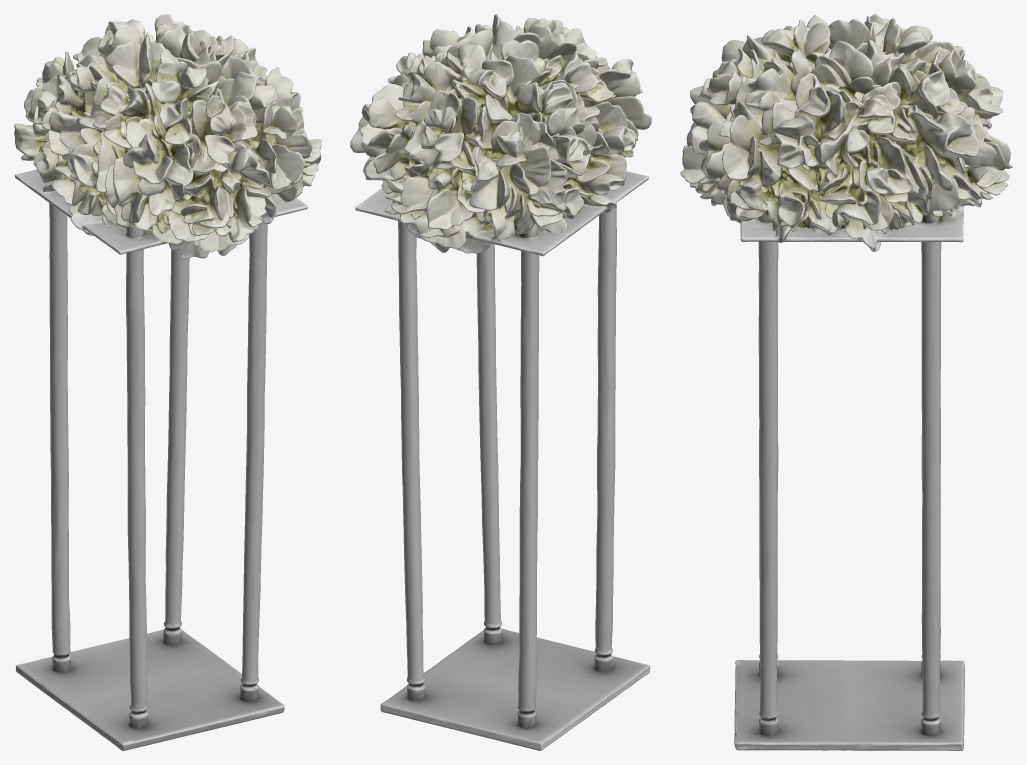
File: chuppah-decor-1.glb
3 views of the same model, side by side, from view 1: azimuth 30°, elevation 25°; view 2: azimuth 150°, elevation 25°; view 3: azimuth 270°, elevation 25° (orthographic). The views are drawn at different scales.
Parts seen in each view (by area): view 1: tripo_node_7aa1b8cf-158e-4043-b133-45f499207fef; view 2: tripo_node_7aa1b8cf-158e-4043-b133-45f499207fef; view 3: tripo_node_7aa1b8cf-158e-4043-b133-45f499207fef.
Part boxes in pixels (bbox=[...]): tripo_node_7aa1b8cf-158e-4043-b133-45f499207fef: bbox=[14, 14, 321, 750]; tripo_node_7aa1b8cf-158e-4043-b133-45f499207fef: bbox=[350, 14, 651, 750]; tripo_node_7aa1b8cf-158e-4043-b133-45f499207fef: bbox=[680, 14, 1012, 750].
Bounding box in the file's own units: 0.5261 × 1.4 × 0.6112.
Materials: 1 (1 with a texture image).
